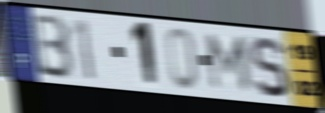0: (164, 26, 201, 93)
1: (129, 20, 160, 92), (72, 18, 97, 83)
B: (32, 12, 77, 81)
M: (206, 31, 254, 93)
S: (248, 35, 291, 100)
